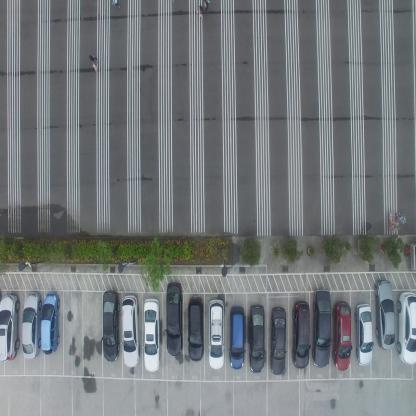car: (374, 278, 395, 352), (396, 290, 416, 366), (313, 287, 331, 368), (121, 294, 140, 368), (331, 300, 351, 370), (0, 294, 20, 364), (40, 290, 61, 356), (22, 292, 42, 360), (165, 281, 183, 356), (291, 300, 310, 369), (207, 298, 225, 370), (102, 290, 120, 362), (143, 296, 160, 371), (354, 301, 373, 367), (269, 306, 286, 376), (187, 294, 204, 362), (249, 304, 265, 374), (228, 306, 245, 370)
